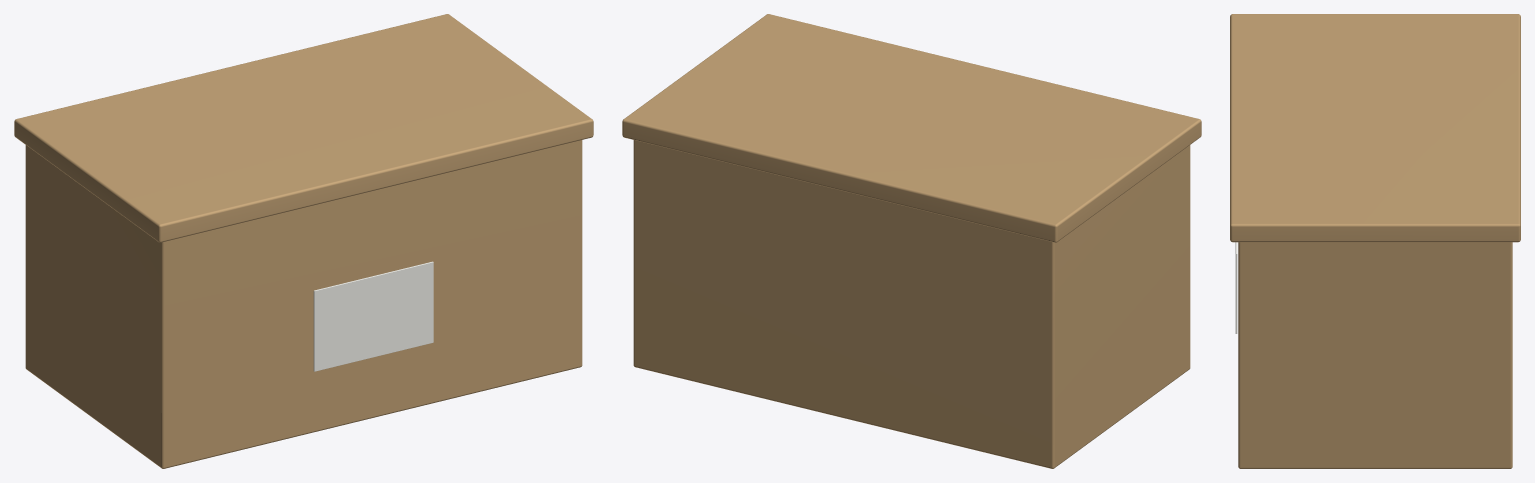
File: archive_box.glb
3 views of the same model, side by side, from view 1: azimuth 30°, elevation 25°; view 2: azimuth 150°, elevation 25°; view 3: azimuth 270°, elevation 25° (orthographic).
Parts seen in each view (by area): view 1: archive_0__body, archive_0__lid, archive_0__label; view 2: archive_0__body, archive_0__lid; view 3: archive_0__lid, archive_0__body.
Boxes of the visible parts, x1,y1,x2,y2 form: archive_0__body: [25, 140, 582, 468]; archive_0__lid: [14, 14, 593, 242]; archive_0__label: [313, 261, 433, 371]; archive_0__body: [633, 140, 1190, 468]; archive_0__lid: [622, 14, 1201, 242]; archive_0__lid: [1230, 14, 1520, 242]; archive_0__body: [1238, 242, 1512, 468].
Size of the model in its own units: 0.62 by 0.3395 by 0.36.
